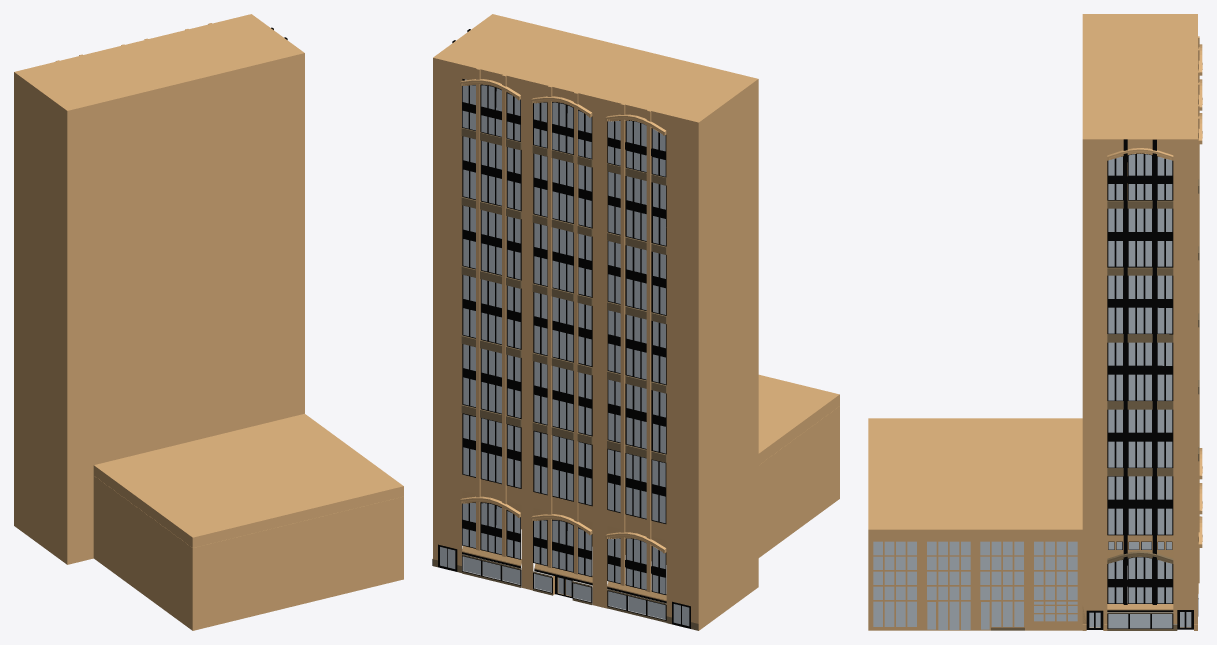
Rendered from blender_model_deneme_.fbx.
3 views of the same model, side by side, from view 1: azimuth 30°, elevation 25°; view 2: azimuth 150°, elevation 25°; view 3: azimuth 270°, elevation 25° (orthographic). The views are drawn at different scales.
Visible parts, largest first — view 1: Cube.004; view 2: Cube.004; view 3: Cube.004.
Part boxes in pixels (left/top/right/bottom): Cube.004: left=14, top=14, right=403, bottom=630; Cube.004: left=432, top=14, right=839, bottom=630; Cube.004: left=868, top=14, right=1202, bottom=630.
Size of the model in its own units: 3657 by 6579 by 4057.
